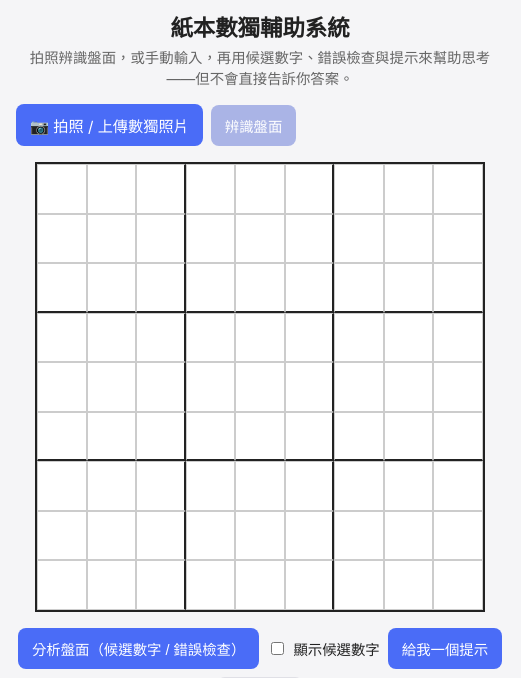
Test: App › shows a conflict message and marks conflicting cells when conflicts are found
This screenshot has width=521, height=678.
Type "5" into the 1st field with class "cell-input" at (62, 189), box [38, 165, 86, 212]
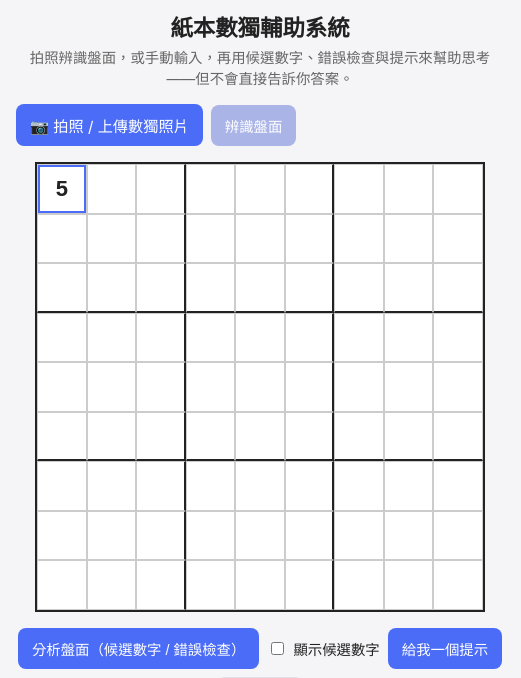
Type "5" into the 2nd field with class "cell-input" at (111, 189), box [88, 165, 135, 212]
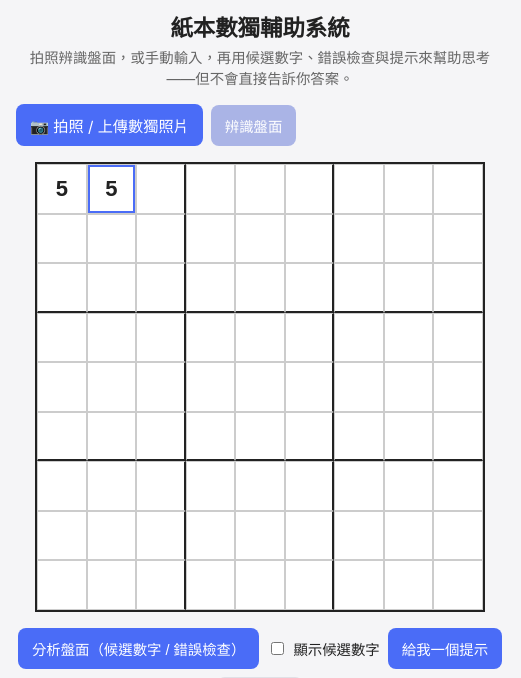
Click the button "分析盤面（候選數字 / 錯誤檢查）" at (139, 648), box [18, 628, 259, 669]
(page scrolled)
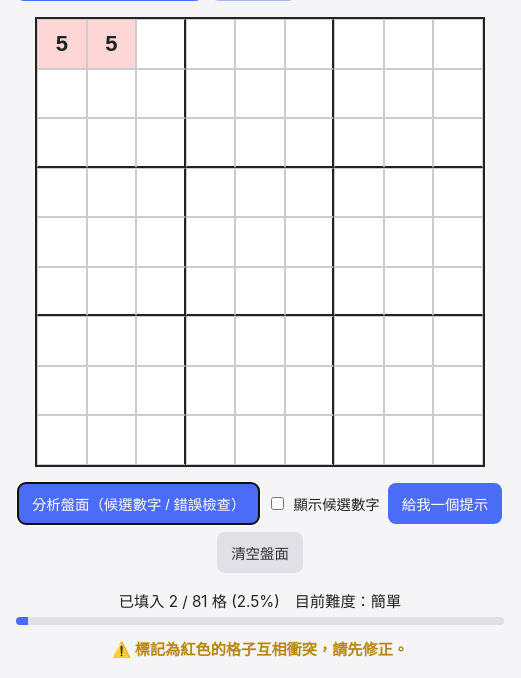
Check: the number of elements with class "conflict" is 2, box [37, 19, 86, 68]; [86, 19, 136, 68]
Check: the text "⚠️ 標記為紅色的格子互相衝突，請先修正。" is shown, box [112, 640, 408, 659]
